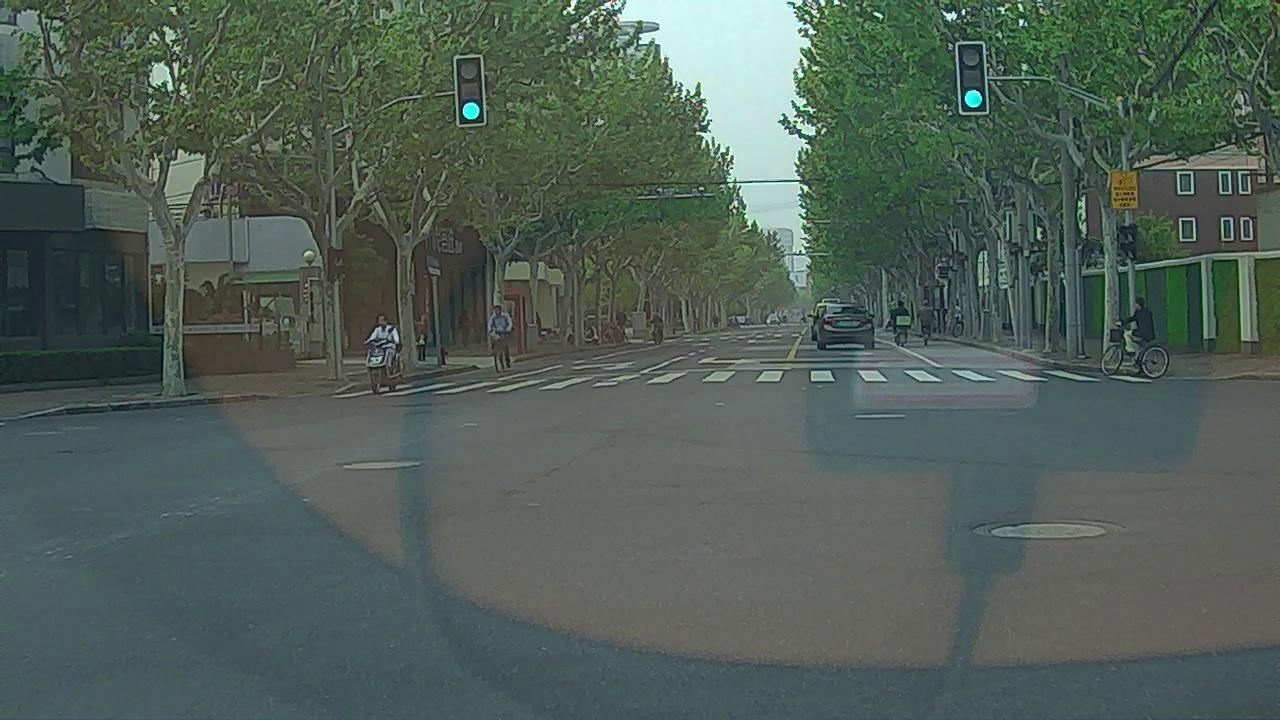traffic_light: (458, 57, 484, 125), (960, 43, 985, 113)
